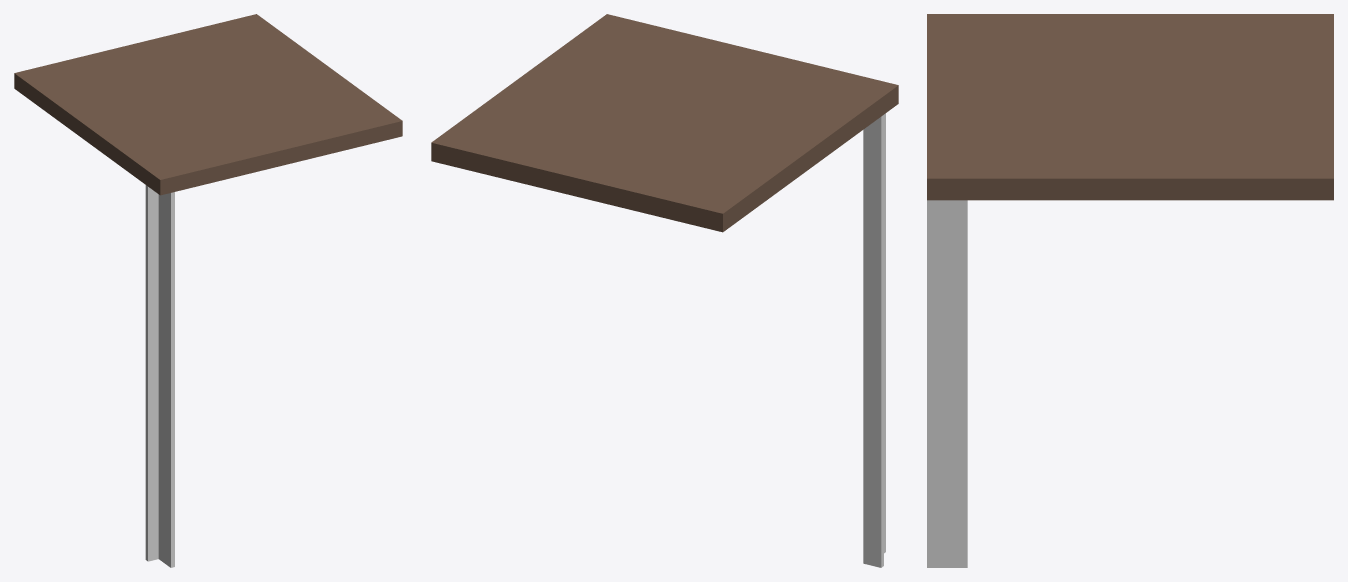
File: KitchenCorner1_C1_02R.fbx
3 renders of one model, left to right at view 1: azimuth 30°, elevation 25°; view 2: azimuth 150°, elevation 25°; view 3: azimuth 270°, elevation 25°, orthographic. The views are drawn at different scales.
Visible parts, largest first — view 1: KitchenCorner1_C1_02R; view 2: KitchenCorner1_C1_02R; view 3: KitchenCorner1_C1_02R.
Boxes of the visible parts, bbox=[...] form: KitchenCorner1_C1_02R: bbox=[14, 14, 402, 567]; KitchenCorner1_C1_02R: bbox=[431, 14, 898, 567]; KitchenCorner1_C1_02R: bbox=[927, 14, 1333, 567].
Bounding box in the file's own units: 57.5 × 88.5 × 60.
